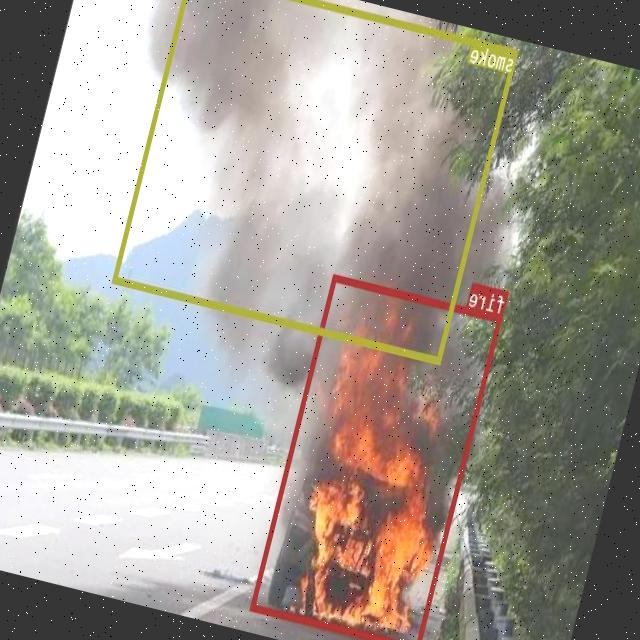fire: (251, 273, 503, 640)
smoke: (113, 0, 520, 363)
